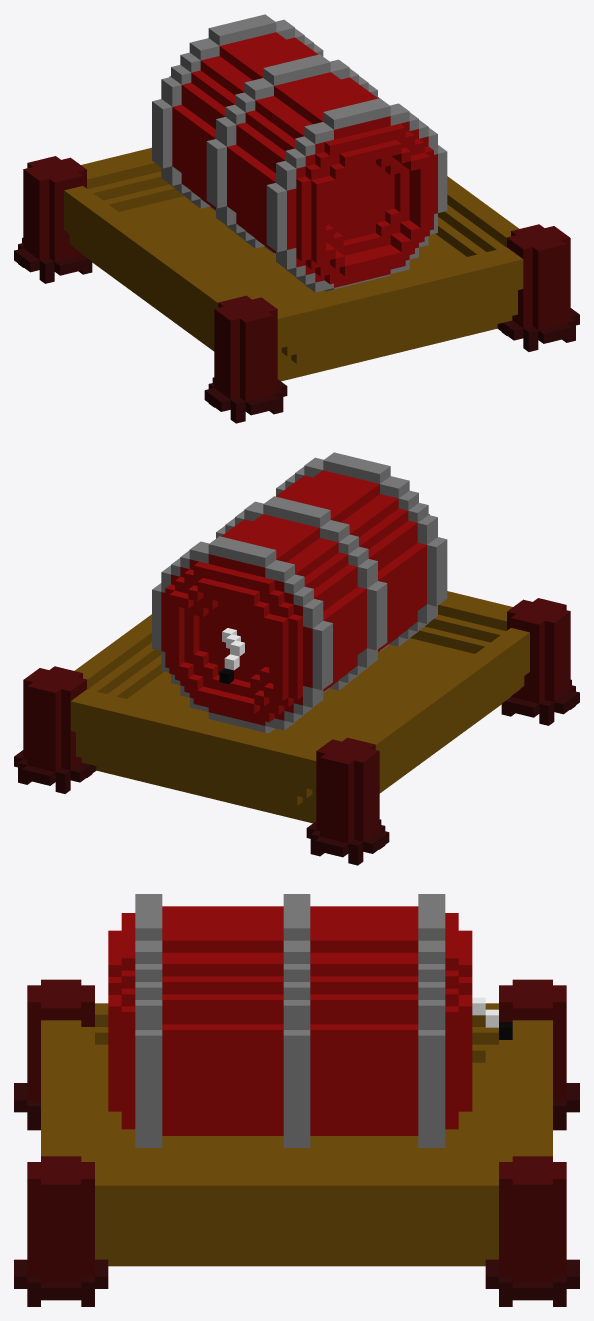
File: Enemy Barrel.obj
3 renders of one model, top to bottom at view 1: azimuth 30°, elevation 25°; view 2: azimuth 150°, elevation 25°; view 3: azimuth 270°, elevation 25°, orthographic. The views are drawn at different scales.
Bounding box in the file's own units: 7.6 × 4.8 × 8.4.
1 material, 1 textured.
